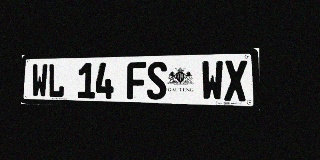1: (77, 63, 95, 98)
4: (95, 62, 114, 99)
F: (127, 62, 146, 99)
L: (48, 63, 64, 98)
S: (147, 61, 167, 100)
W: (201, 60, 223, 101), (32, 64, 48, 98)
X: (224, 60, 247, 101)
